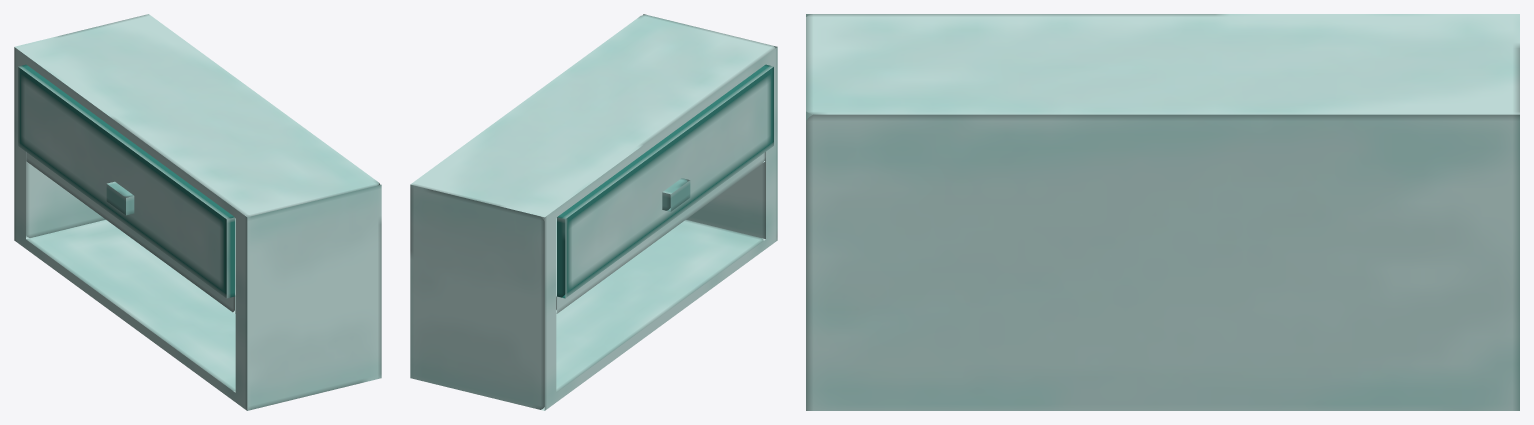
The model's file is shelf5.fbx.
The picture shows the model from 3 angles, left to right: view 1: azimuth 30°, elevation 25°; view 2: azimuth 150°, elevation 25°; view 3: azimuth 270°, elevation 25°; orthographic projection. The views are drawn at different scales.
Visible parts, largest first — view 1: cuboid, cuboid_2, cuboid_1, cuboid_3; view 2: cuboid, cuboid_2, cuboid_1, cuboid_3; view 3: cuboid.
Part boxes in pixels (left/top/right/bottom): cuboid: left=14, top=14, right=381, bottom=410; cuboid_2: left=18, top=64, right=234, bottom=298; cuboid_1: left=26, top=152, right=235, bottom=313; cuboid_3: left=106, top=181, right=134, bottom=215; cuboid: left=410, top=14, right=777, bottom=410; cuboid_2: left=557, top=64, right=773, bottom=298; cuboid_1: left=556, top=152, right=765, bottom=313; cuboid_3: left=662, top=178, right=690, bottom=211; cuboid: left=806, top=14, right=1519, bottom=410.
Size of the model in its own units: 112 by 138 by 300.
1 material, 1 textured.
